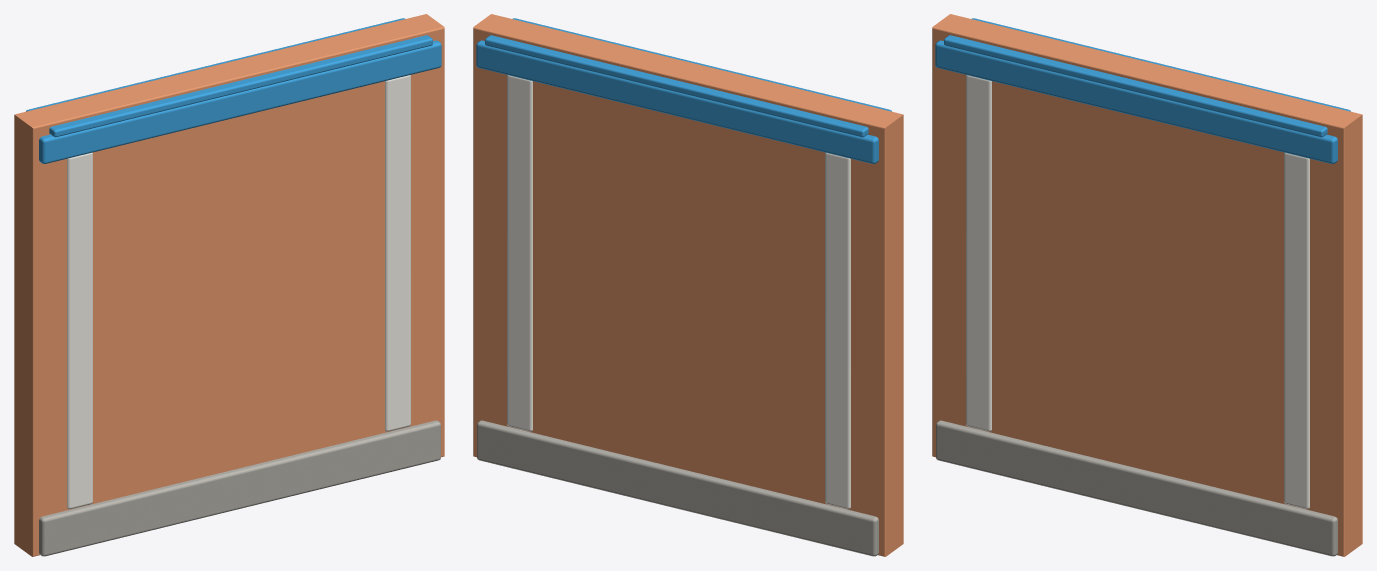
Rendered from hero-shooter-harbour-payload-wall-bay-terracotta-e1ccec34__27691.glb.
The picture shows the model from 3 angles, left to right: view 1: azimuth 30°, elevation 25°; view 2: azimuth 150°, elevation 25°; view 3: azimuth 330°, elevation 25°; orthographic projection.
Parts seen in each view (by area): view 1: wall-bay-terracotta; view 2: wall-bay-terracotta; view 3: wall-bay-terracotta.
Part boxes in pixels (x1=…): wall-bay-terracotta: x1=14, y1=14, x2=444, y2=556; wall-bay-terracotta: x1=473, y1=14, x2=903, y2=556; wall-bay-terracotta: x1=932, y1=14, x2=1362, y2=556.
Bounding box in the file's own units: 4.02 × 4 × 0.4999.
Materials: 4 (1 with a texture image).
